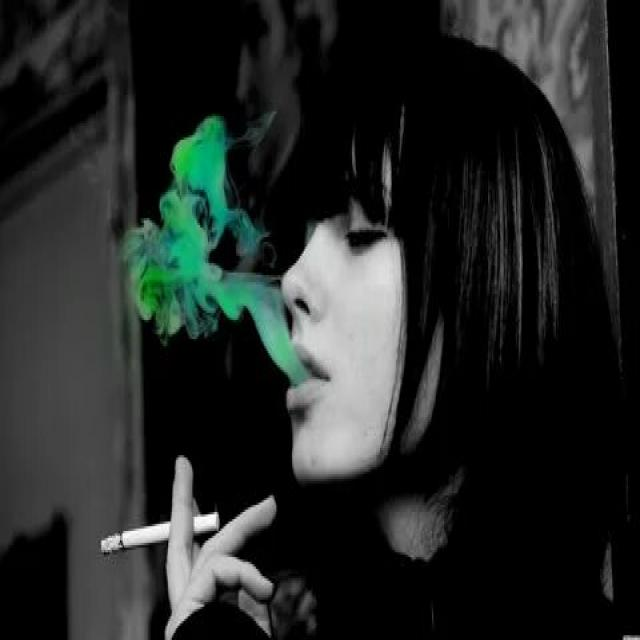smoke: (100, 510, 221, 557)
